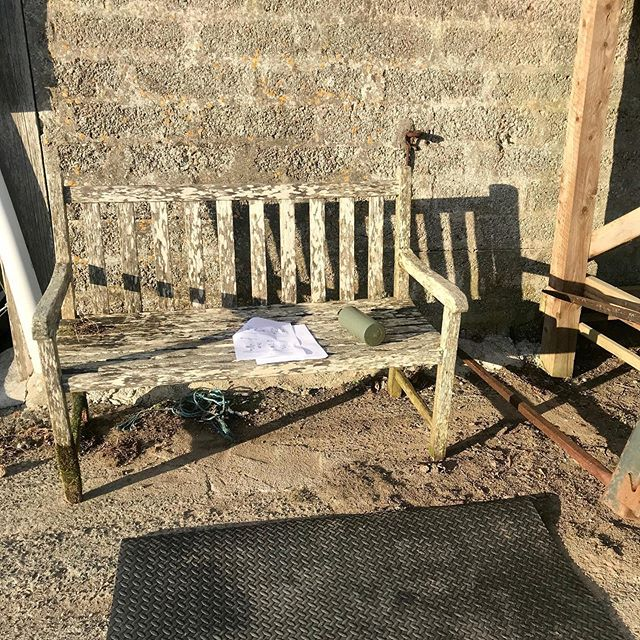bench: (10, 119, 484, 469)
